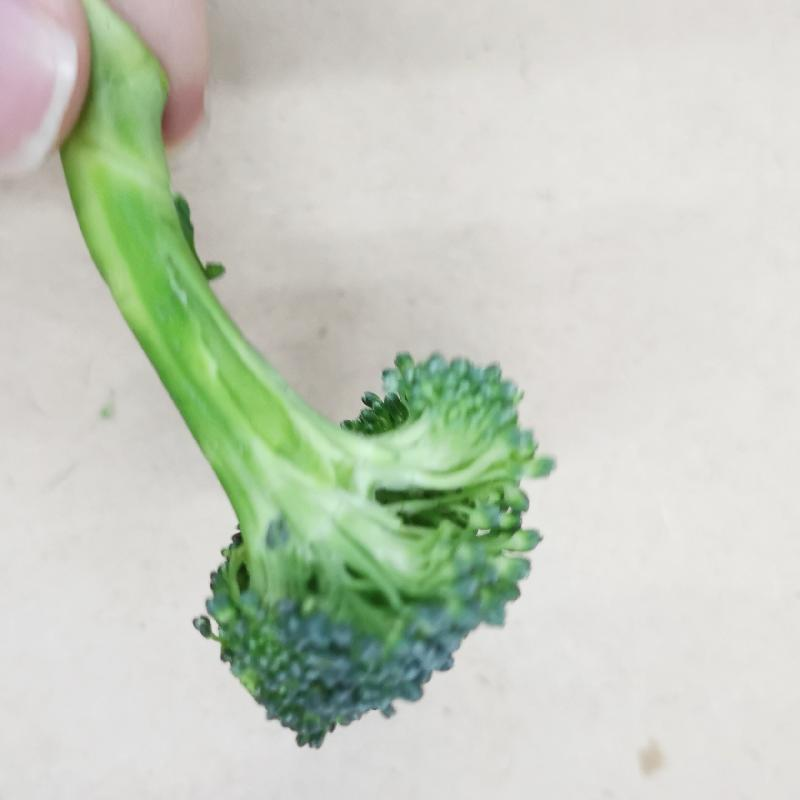broccoli: (27, 21, 559, 745)
